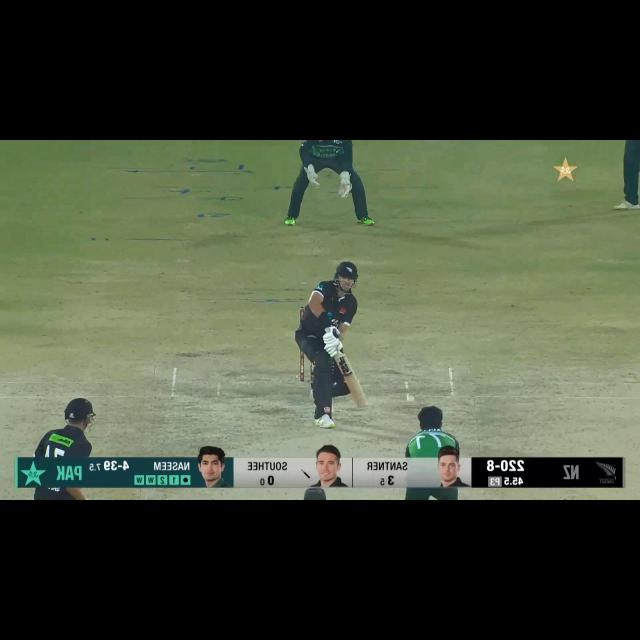bat: (334, 354, 367, 407)
toe: (356, 399, 368, 407)
